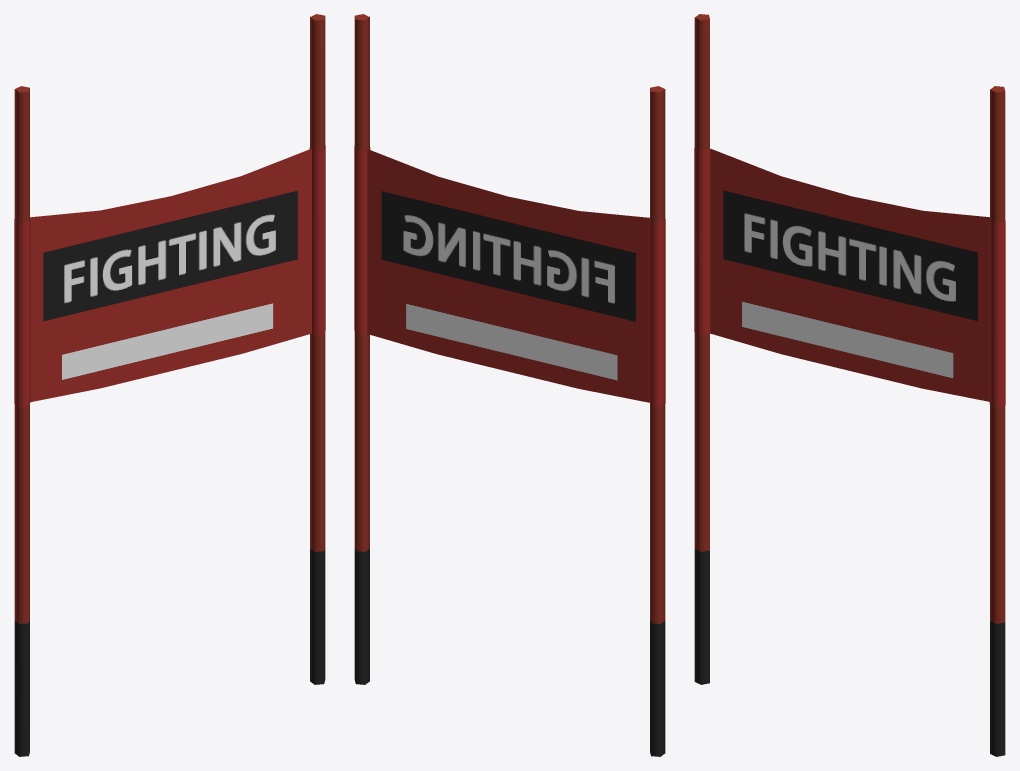
File: HX-zhangaiqi-hong1.FBX
The picture shows the model from 3 angles, left to right: view 1: azimuth 30°, elevation 25°; view 2: azimuth 150°, elevation 25°; view 3: azimuth 330°, elevation 25°; orthographic projection.
Parts seen in each view (by area): view 1: zhangaiqi-hong1; view 2: zhangaiqi-hong1; view 3: zhangaiqi-hong1.
Part boxes in pixels (x1,y1,x2,y2): zhangaiqi-hong1: (14,14,325,756); zhangaiqi-hong1: (354,14,665,756); zhangaiqi-hong1: (694,14,1005,756).
Bounding box in the file's own units: 526 × 1081 × 24.08.
